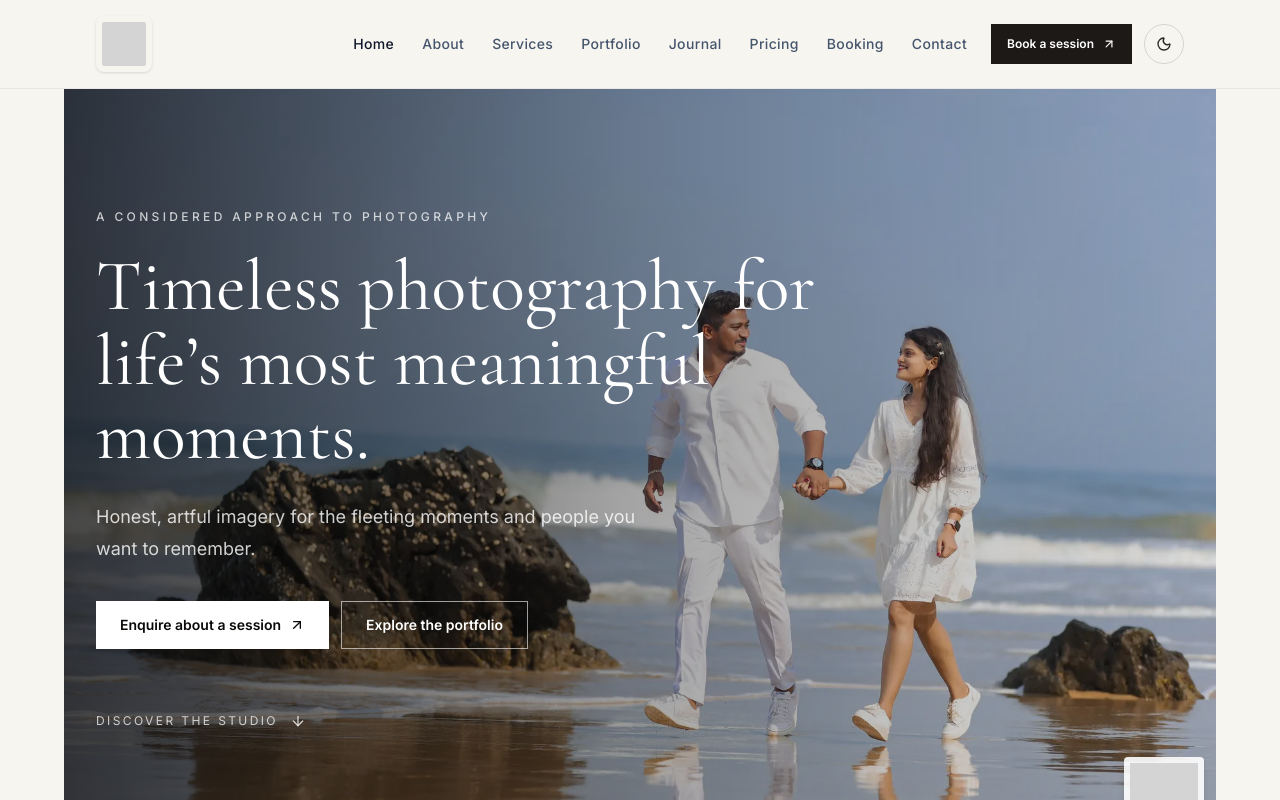
Test case: App › toggles between light and dark themes and remembers the selection
The image size is (1280, 800).
Click the button named "Switch to dark theme" at (1164, 44), box [1144,24,1184,64]
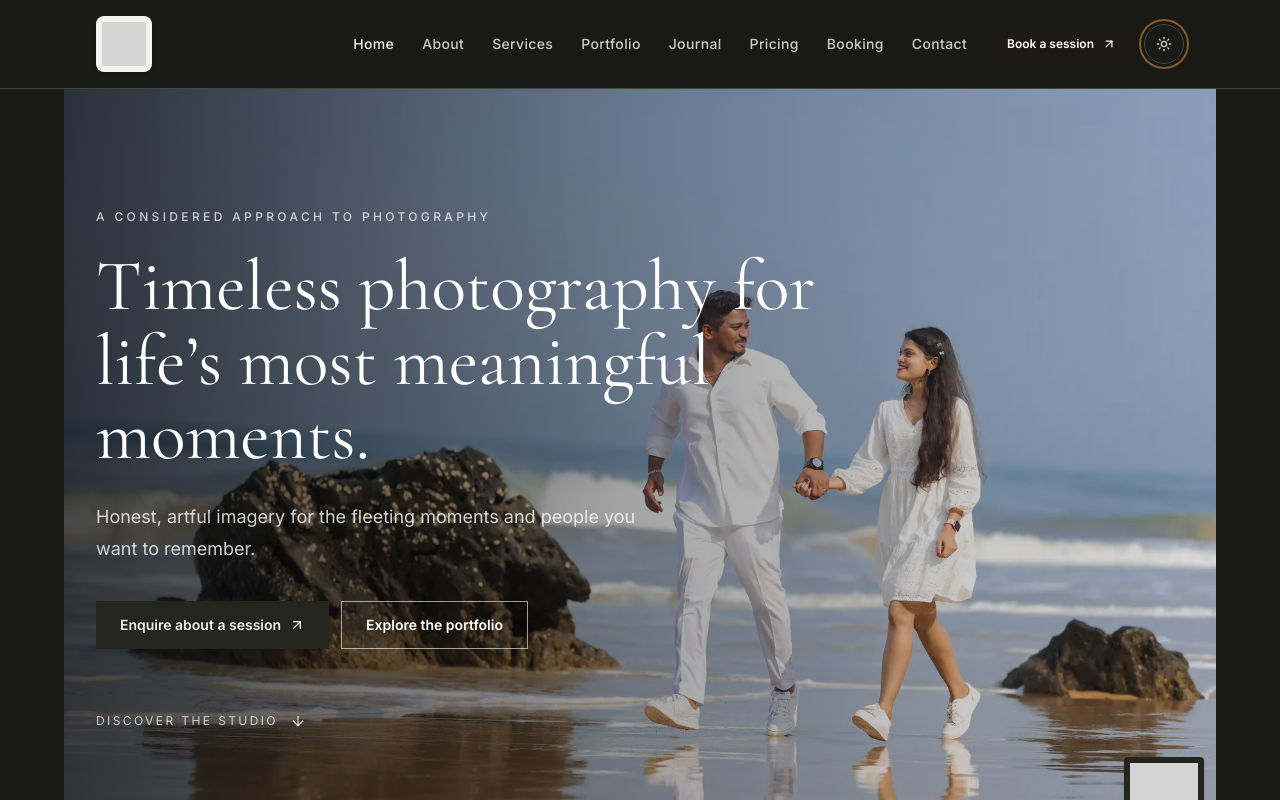
Result: the button named "Switch to light theme" is shown at [1144,24,1184,64]
